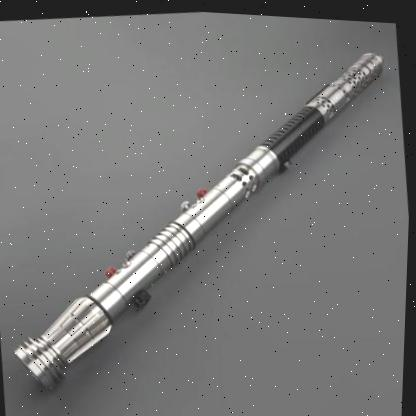lightsaber: (0, 22, 415, 416)
